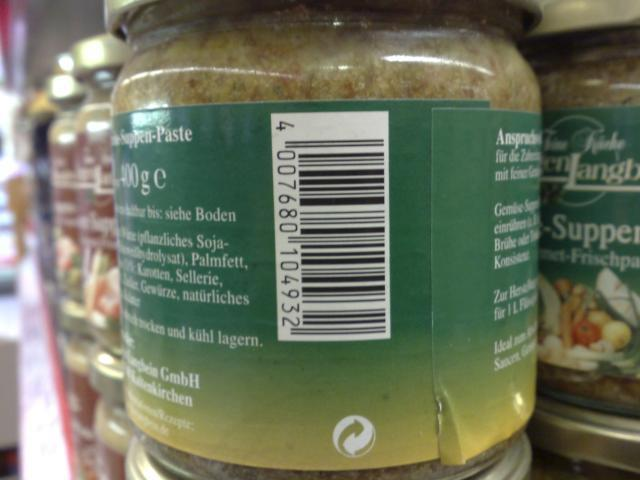Barcode: (271, 111, 392, 340)
